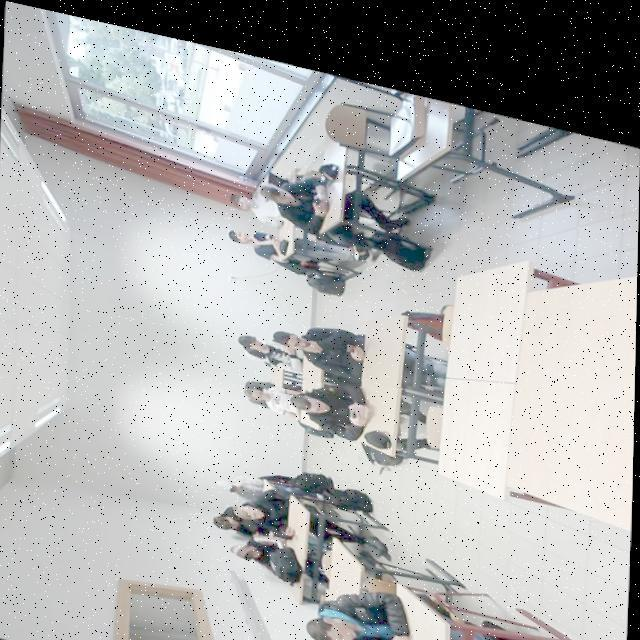phone_use: (306, 540, 447, 638), (260, 163, 337, 232), (272, 327, 363, 383), (230, 474, 302, 534), (291, 383, 368, 438), (243, 357, 301, 412), (213, 502, 270, 533), (237, 334, 296, 363)
